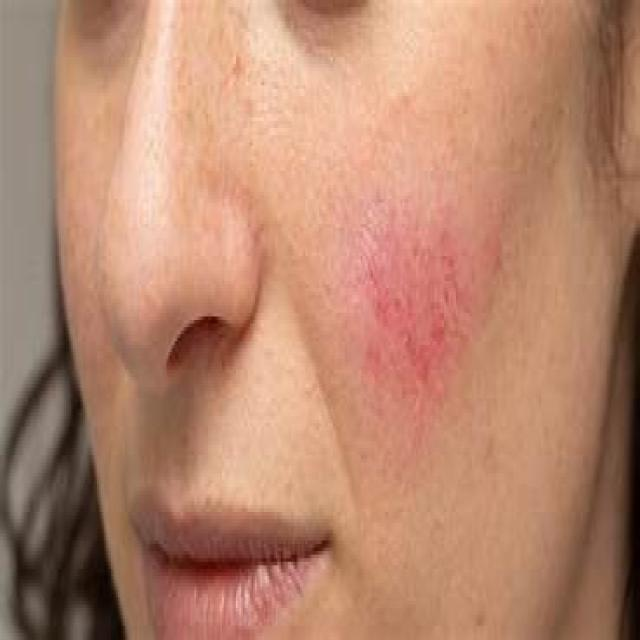pigmentation: (362, 224, 492, 394)
